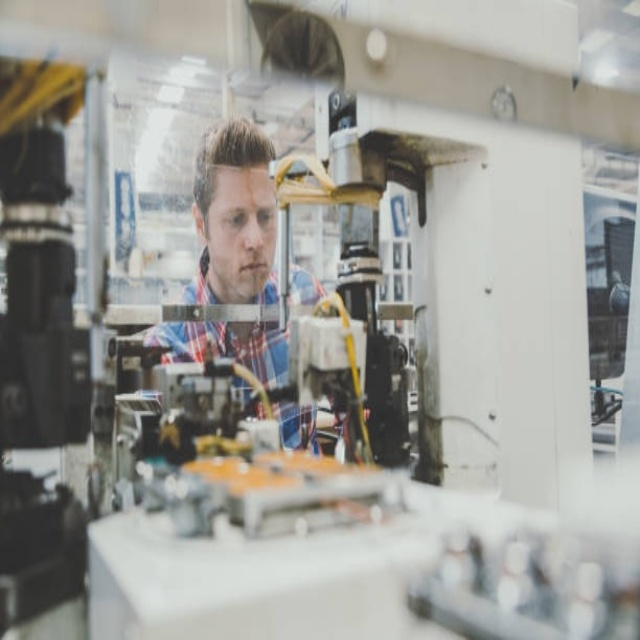Sin_gafas: (212, 191, 278, 238)
Sin_mascara: (233, 251, 270, 293)
